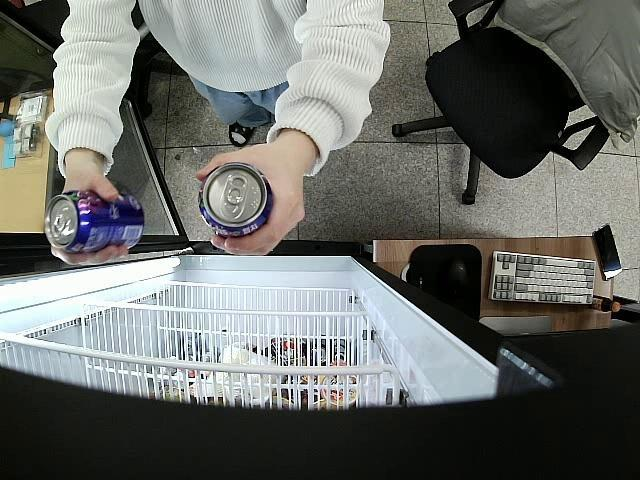14_welchsGrape: (44, 188, 146, 253), (197, 162, 274, 238)
